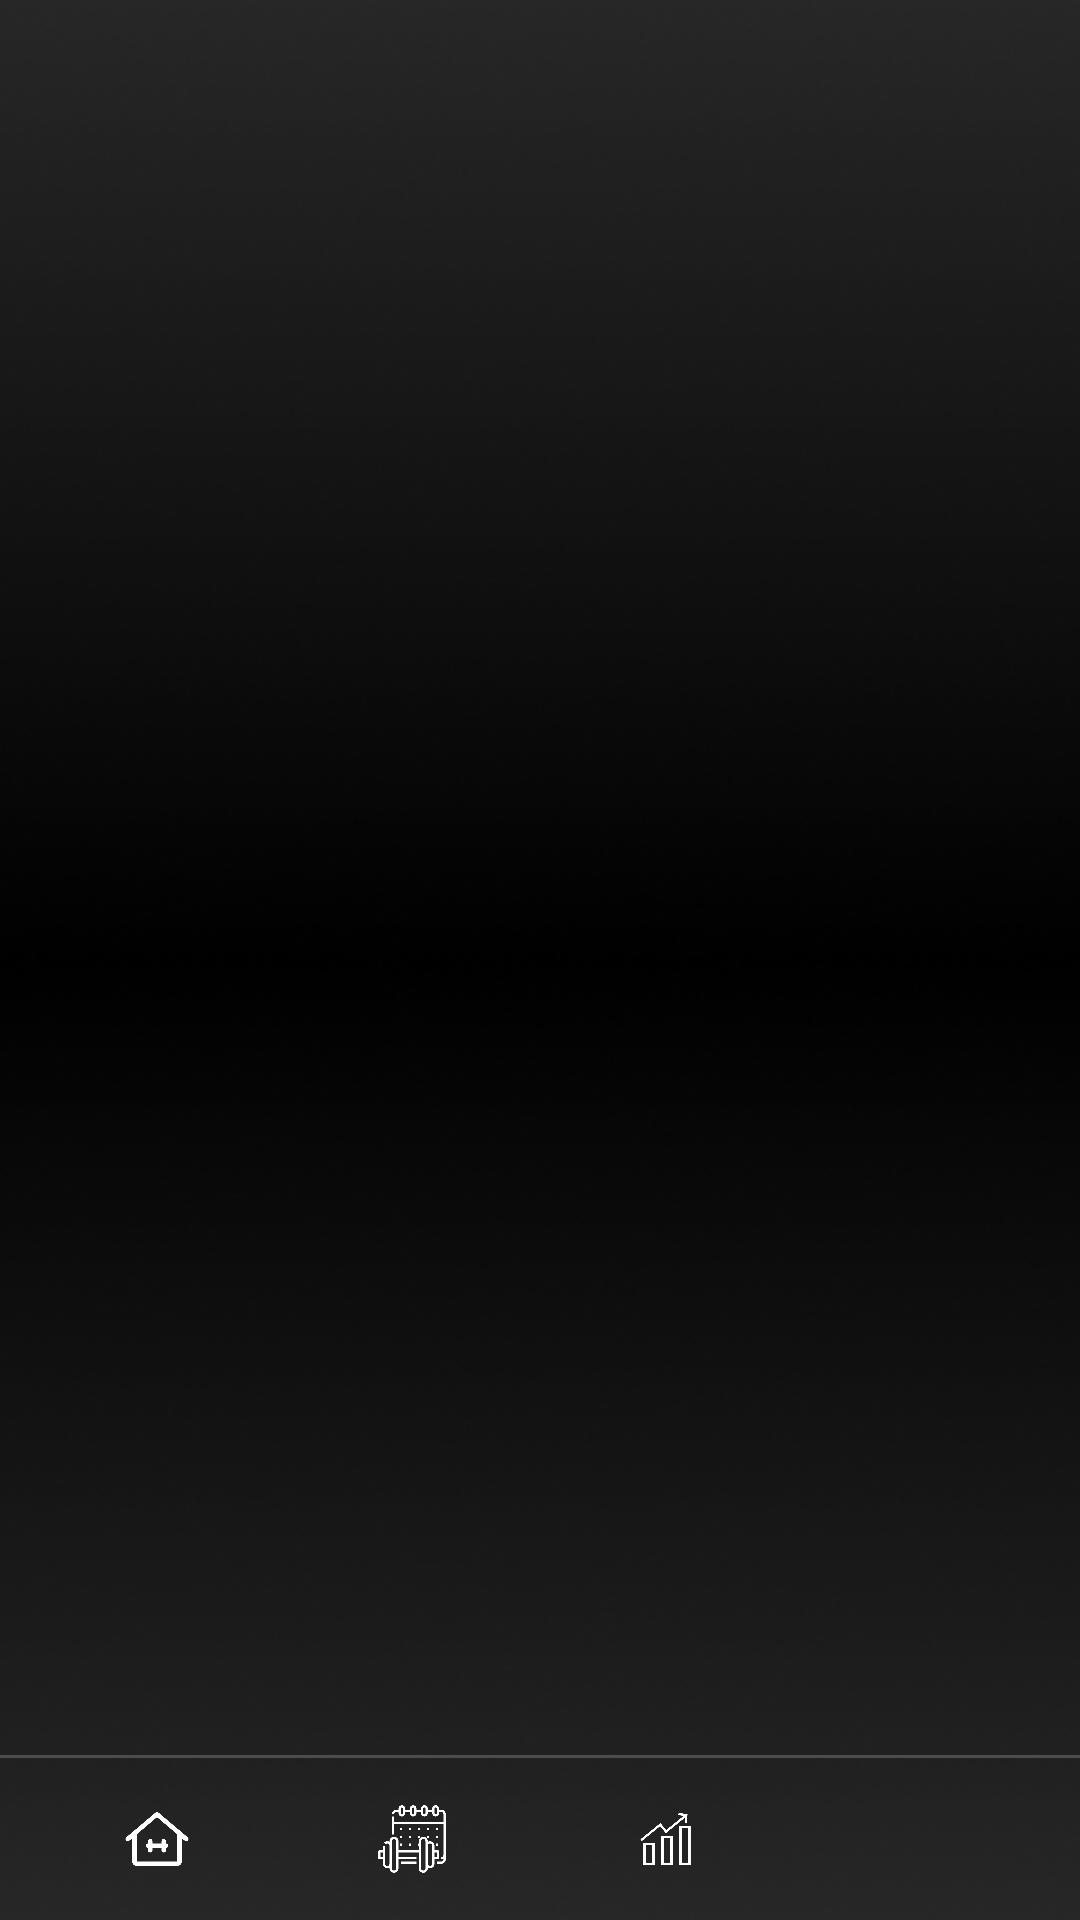

Locate icon controls on the screen. Image size 1080 x 1920, boxes as (x1, y1, x2, y2).
graph: (640, 1813, 691, 1865)
home: (125, 1812, 189, 1866)
workout: (378, 1805, 446, 1873)
